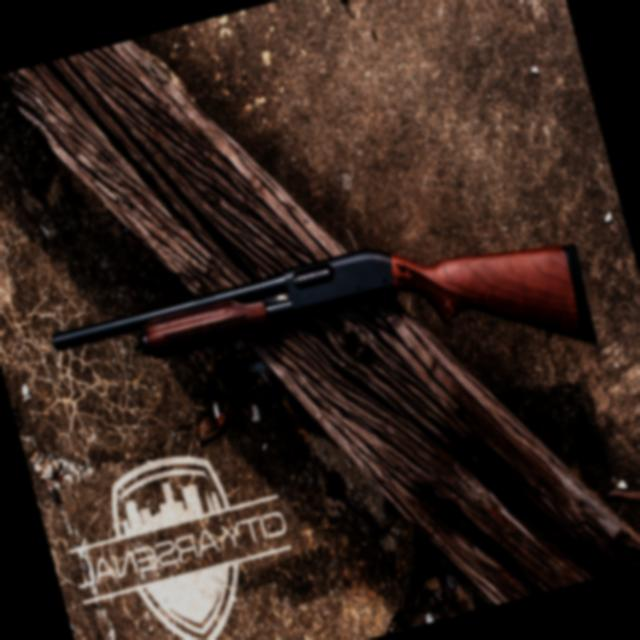shotgun: (29, 177, 607, 496)
